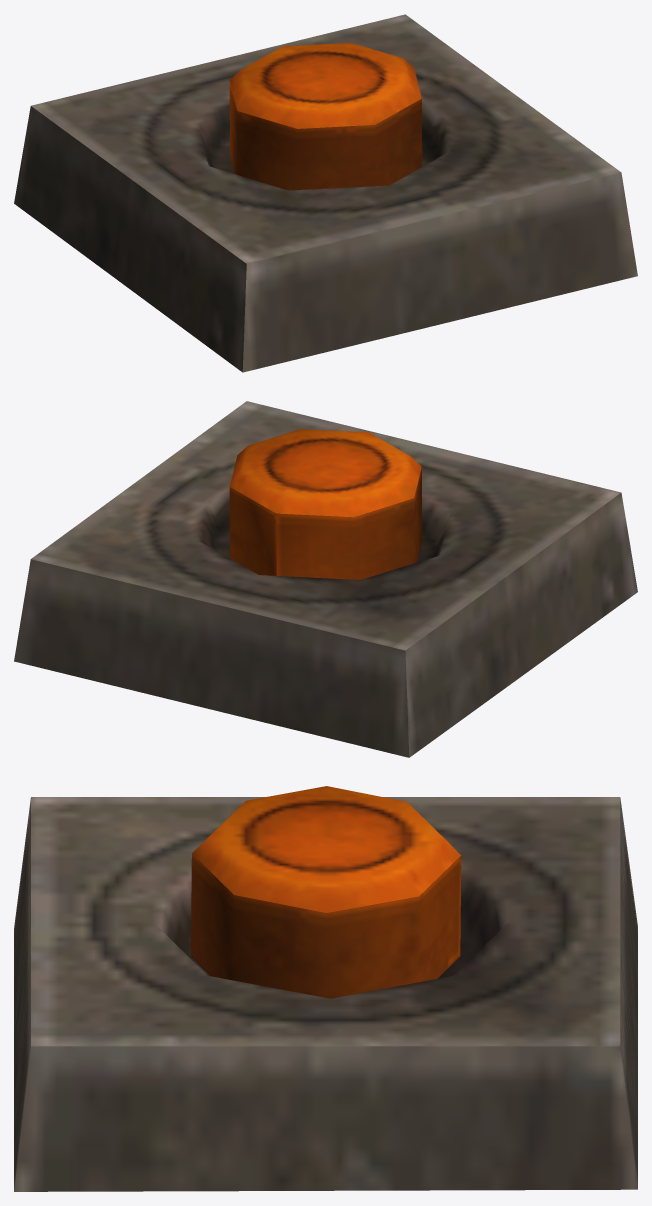
The model's file is button_round_small.dae.
The picture shows the model from 3 angles, top to bottom: view 1: azimuth 30°, elevation 25°; view 2: azimuth 150°, elevation 25°; view 3: azimuth 270°, elevation 25°; orthographic projection. The views are drawn at different scales.
Parts seen in each view (by area): view 1: base, button; view 2: base, button; view 3: base, button.
Boxes of the visible parts, x1,y1,x2,y2 form: base: [14, 14, 637, 372]; button: [229, 43, 422, 190]; base: [14, 401, 637, 757]; button: [229, 429, 422, 579]; base: [14, 797, 637, 1191]; button: [191, 786, 461, 998].
Bounding box in the file's own units: 0.133 × 0.0527 × 0.1333.
